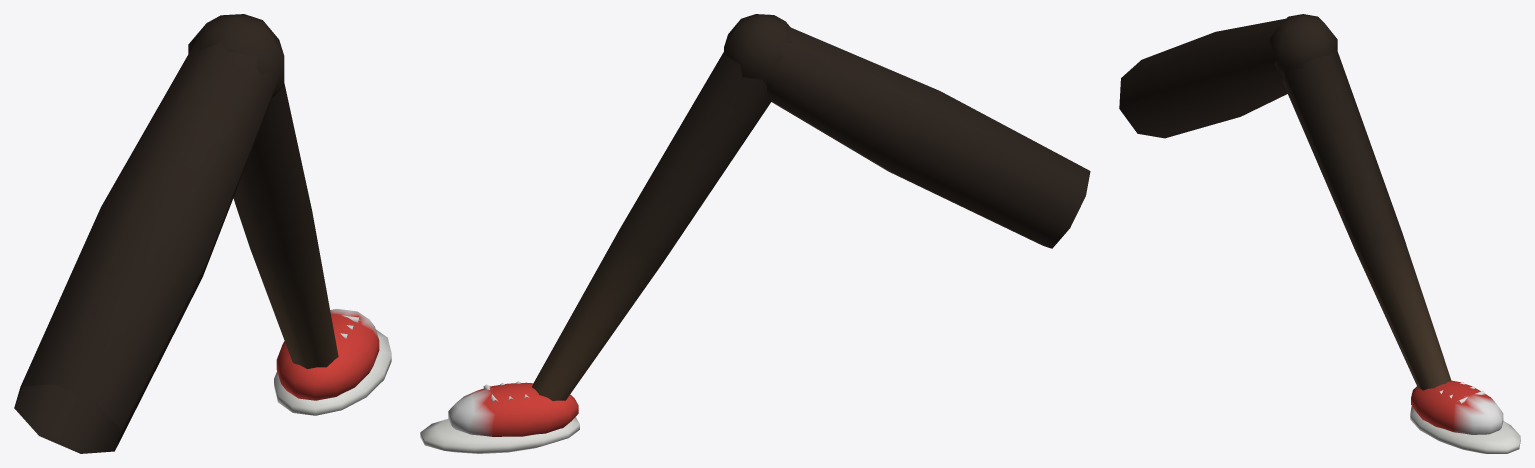
File: Spider_Leg1_Sneaker.fbx
The picture shows the model from 3 angles, left to right: view 1: azimuth 30°, elevation 25°; view 2: azimuth 150°, elevation 25°; view 3: azimuth 270°, elevation 25°; orthographic projection. The views are drawn at different scales.
Parts seen in each view (by area): view 1: Spider_Leg1_Sneaker; view 2: Spider_Leg1_Sneaker; view 3: Spider_Leg1_Sneaker.
Boxes of the visible parts, x1,y1,x2,y2 form: Spider_Leg1_Sneaker: (14, 14, 391, 453); Spider_Leg1_Sneaker: (420, 14, 1090, 453); Spider_Leg1_Sneaker: (1119, 14, 1520, 453).
Size of the model in its own units: 0.302 by 0.2477 by 0.2543.
